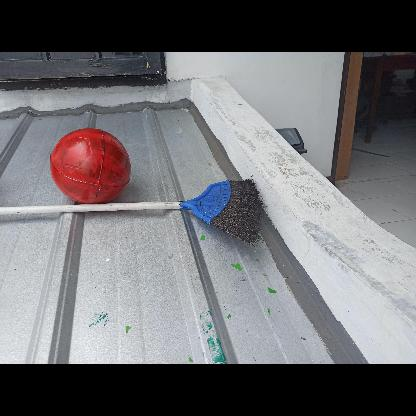red_ball: (50, 124, 130, 206)
